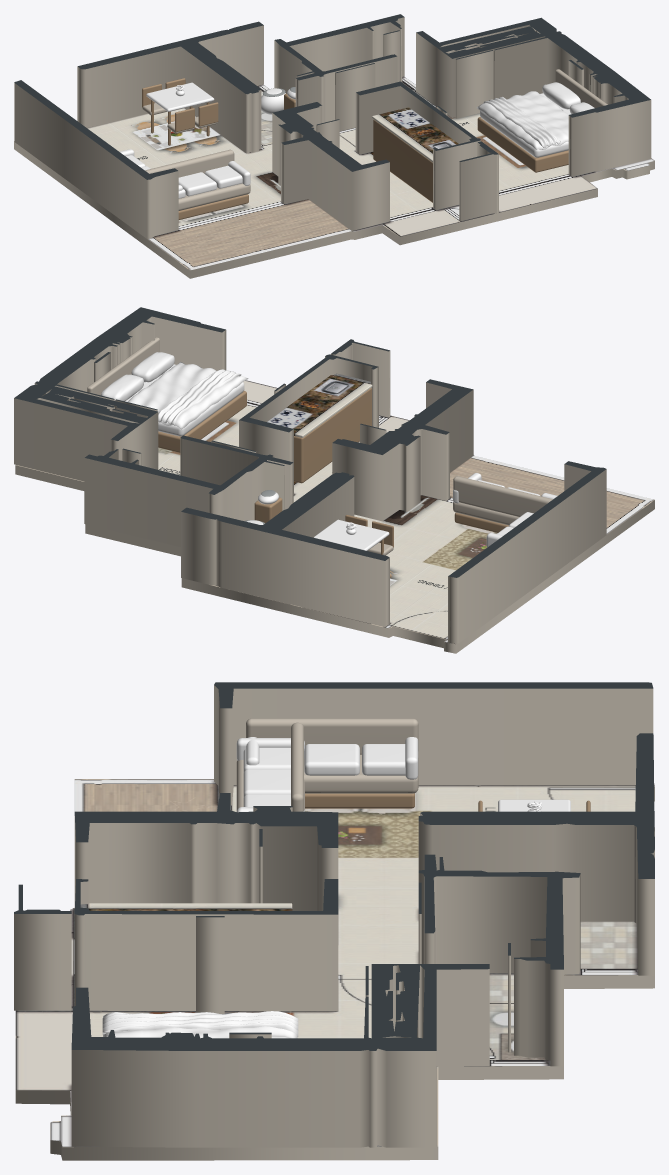
3 views of the same model, one above another, from view 1: azimuth 30°, elevation 25°; view 2: azimuth 150°, elevation 25°; view 3: azimuth 270°, elevation 25° (orthographic). The views are drawn at different scales.
Visible parts, largest first — view 1: Partition walls, Apartment floor, Kitchen cabinets, Draped bed linen, Stone worktop, Walnut upholstered base, Draped bed linen.001, Marble dining top, Sofa back.001, Upholstered sofa frame.001, Piped mattress, Sofa plinth.001 (+6 smaller); view 2: Partition walls, Apartment floor, Kitchen cabinets, Stone worktop, Draped bed linen, Sofa back.001, Draped bed linen.001, Walnut upholstered base, Marble dining top, Upholstered headboard, Piped mattress, Tailored pillow (+3 smaller); view 3: Partition walls, Apartment floor, Sofa back, Draped bed linen.001, Upholstered sofa frame, Seat cushion.001, Sofa plinth, Stone worktop, Draped bed linen, Seat cushion.002, Seat cushion.004, Sofa back.001 (+2 smaller).
Boxes of the visible parts, x1,y1,x2,y2 form: Partition walls: (14, 14, 651, 238); Apartment floor: (14, 76, 654, 278); Kitchen cabinets: (373, 119, 432, 202); Draped bed linen: (476, 91, 568, 149); Stone worktop: (372, 107, 458, 162); Walnut upholstered base: (477, 117, 568, 172); Draped bed linen.001: (483, 97, 560, 148); Marble dining top: (146, 82, 214, 111); Sofa back.001: (145, 149, 234, 177); Upholstered sofa frame.001: (178, 183, 250, 210); Piped mattress: (480, 93, 570, 157); Sofa plinth.001: (178, 194, 248, 219); Partition walls: (14, 307, 606, 643); Apartment floor: (15, 380, 654, 653); Kitchen cabinets: (294, 388, 371, 483); Stone worktop: (267, 373, 372, 437); Draped bed linen: (128, 361, 248, 429); Sofa back.001: (453, 476, 552, 516); Draped bed linen.001: (158, 369, 241, 425); Walnut upholstered base: (158, 391, 246, 452); Marble dining top: (314, 519, 389, 550); Upholstered headboard: (87, 337, 159, 395); Piped mattress: (125, 364, 244, 436); Tailored pillow: (131, 352, 174, 382); Partition walls: (14, 682, 654, 1147); Apartment floor: (15, 779, 654, 1160); Sofa back: (246, 718, 418, 754); Draped bed linen.001: (102, 1011, 298, 1036); Upholstered sofa frame: (304, 754, 418, 793); Seat cushion.001: (304, 744, 359, 775); Sofa plinth: (305, 793, 414, 808); Stone worktop: (80, 903, 292, 910); Draped bed linen: (103, 1012, 297, 1038); Seat cushion.002: (362, 744, 405, 775); Seat cushion.004: (243, 769, 290, 797); Sofa back.001: (291, 722, 303, 811).
Size of the model in its own units: 9.33 by 1.3 by 6.85.
10 materials, 1 textured.
